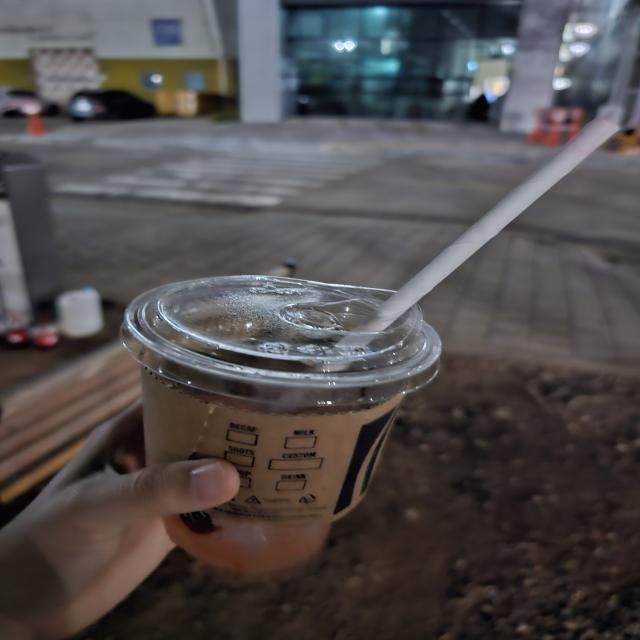cup: (110, 256, 448, 584)
